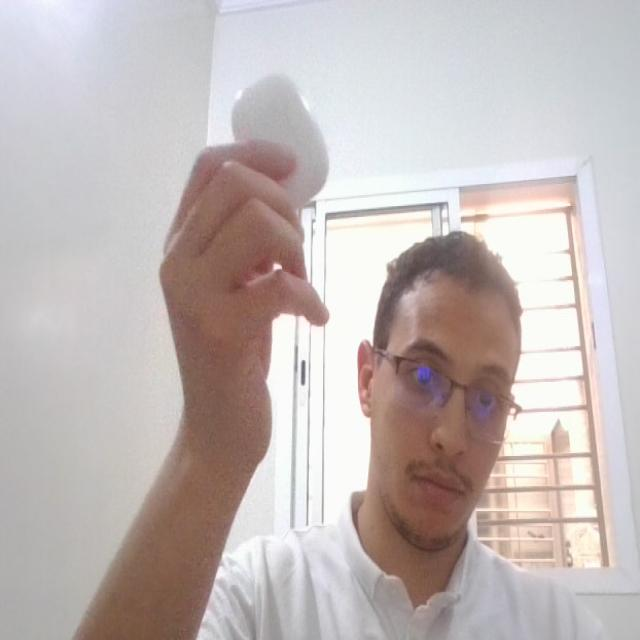airpods: (222, 62, 336, 218)
